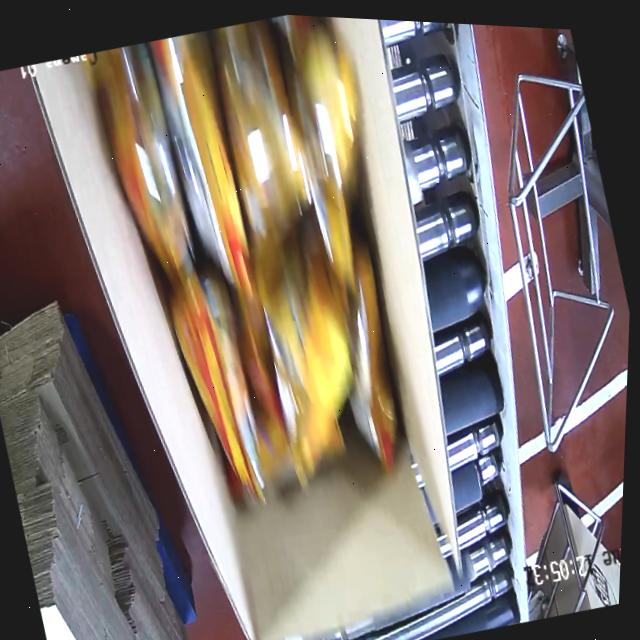FRENCH_CHEESE: (64, 4, 434, 527)
